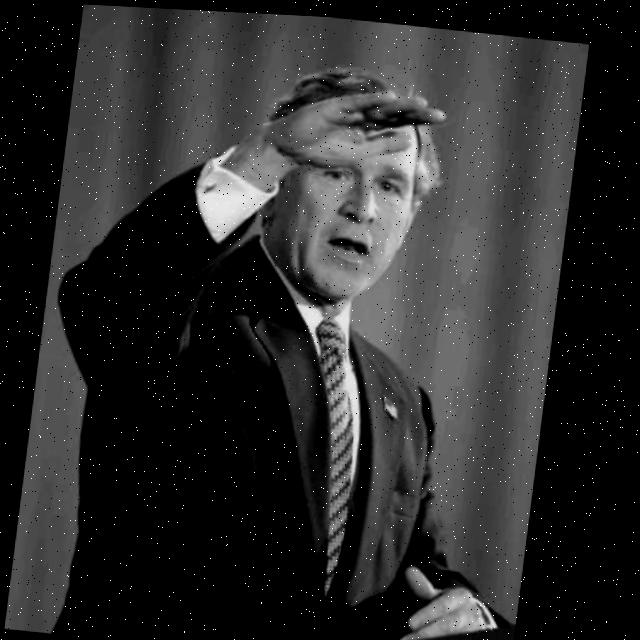face: (270, 80, 433, 317)
